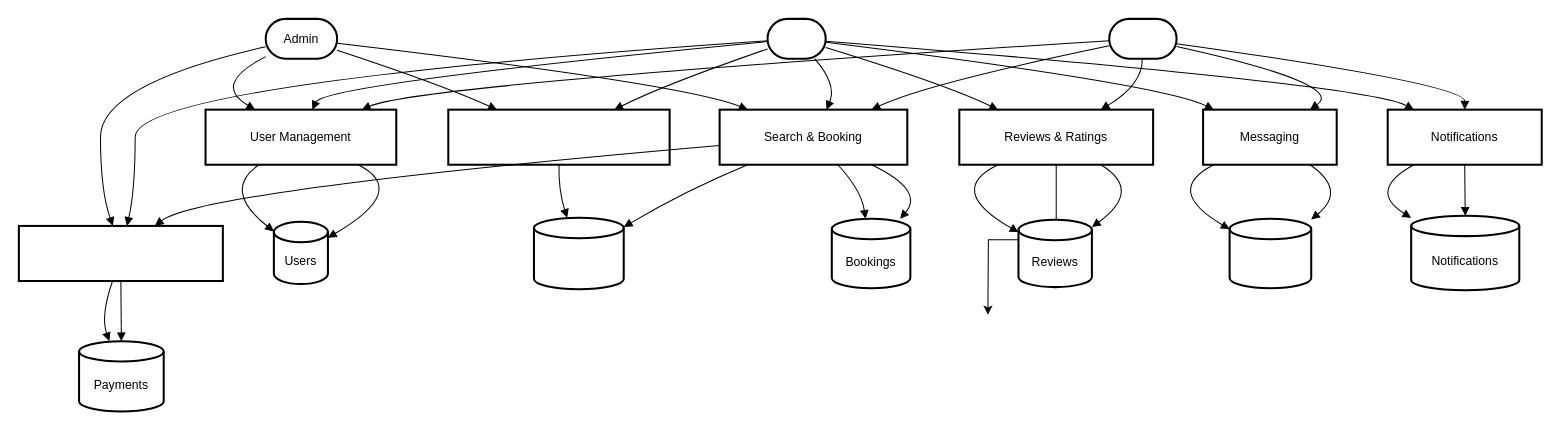
The diagram is 1560 pixels wide and 429 high, and some of its shapes have lost their labels. The box of each missing label's shape, as (x1, y1, x2, y2) in pixels:
Guest: (1108, 17, 1177, 59)
Host: (766, 17, 826, 59)
Messages: (1228, 217, 1312, 289)
Payment Processing: (17, 224, 223, 282)
Properties: (532, 216, 624, 290)
Property Management: (447, 108, 670, 165)
